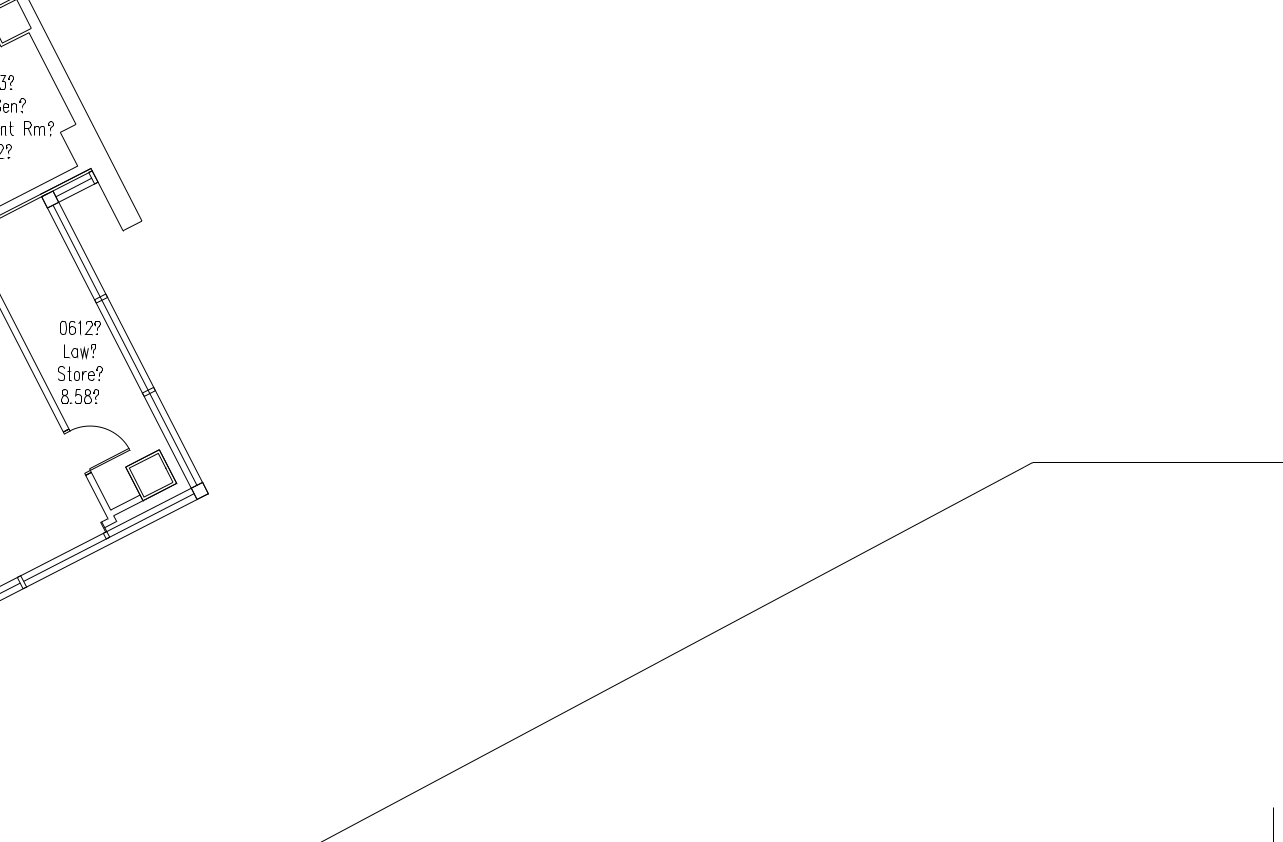door: (59, 417, 134, 474)
